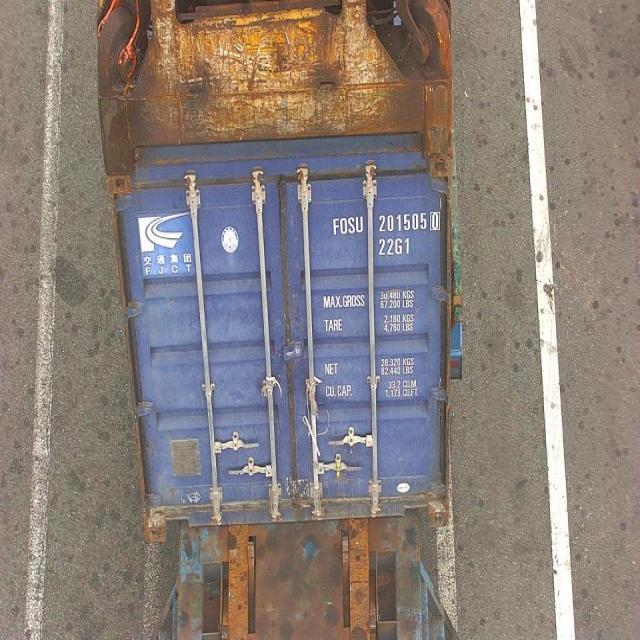ISO: (379, 236, 412, 256)
container_number: (329, 215, 437, 235)
